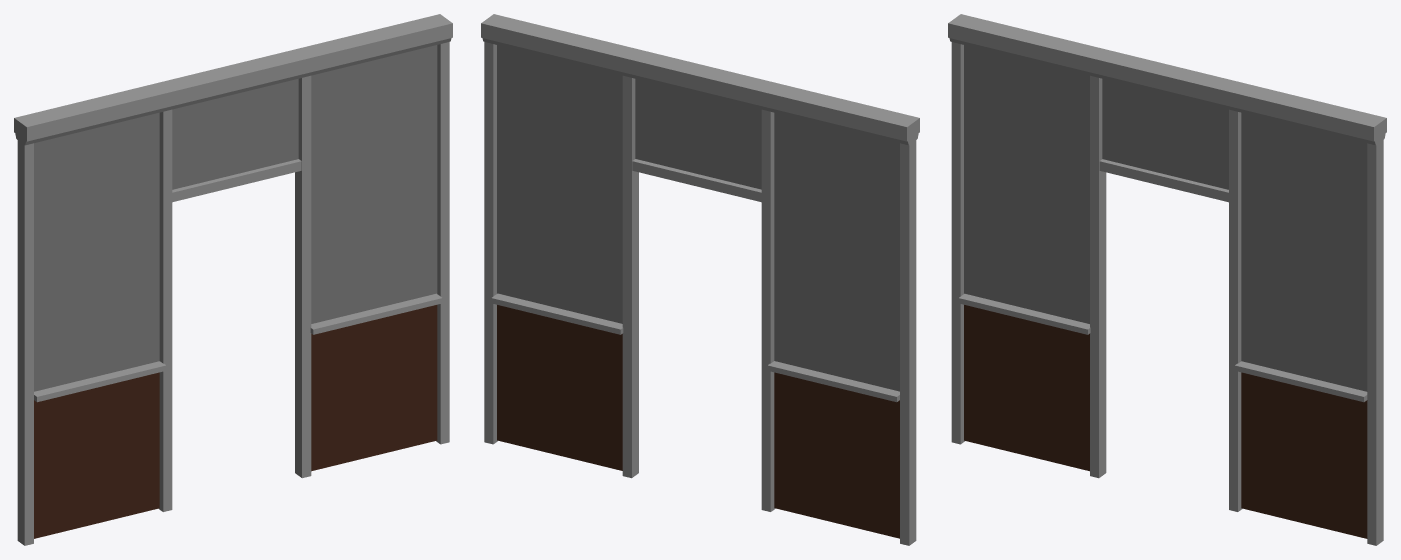
The model's file is SM_wall_interior.fbx.
The picture shows the model from 3 angles, left to right: view 1: azimuth 30°, elevation 25°; view 2: azimuth 150°, elevation 25°; view 3: azimuth 330°, elevation 25°; orthographic projection.
Parts seen in each view (by area): view 1: Box243; view 2: Box243; view 3: Box243.
Boxes of the visible parts, <box> form: Box243: <box>14,14,452,545</box>; Box243: <box>481,14,919,545</box>; Box243: <box>948,14,1386,545</box>.
Bounding box in the file's own units: 132 × 124 × 6.81.
